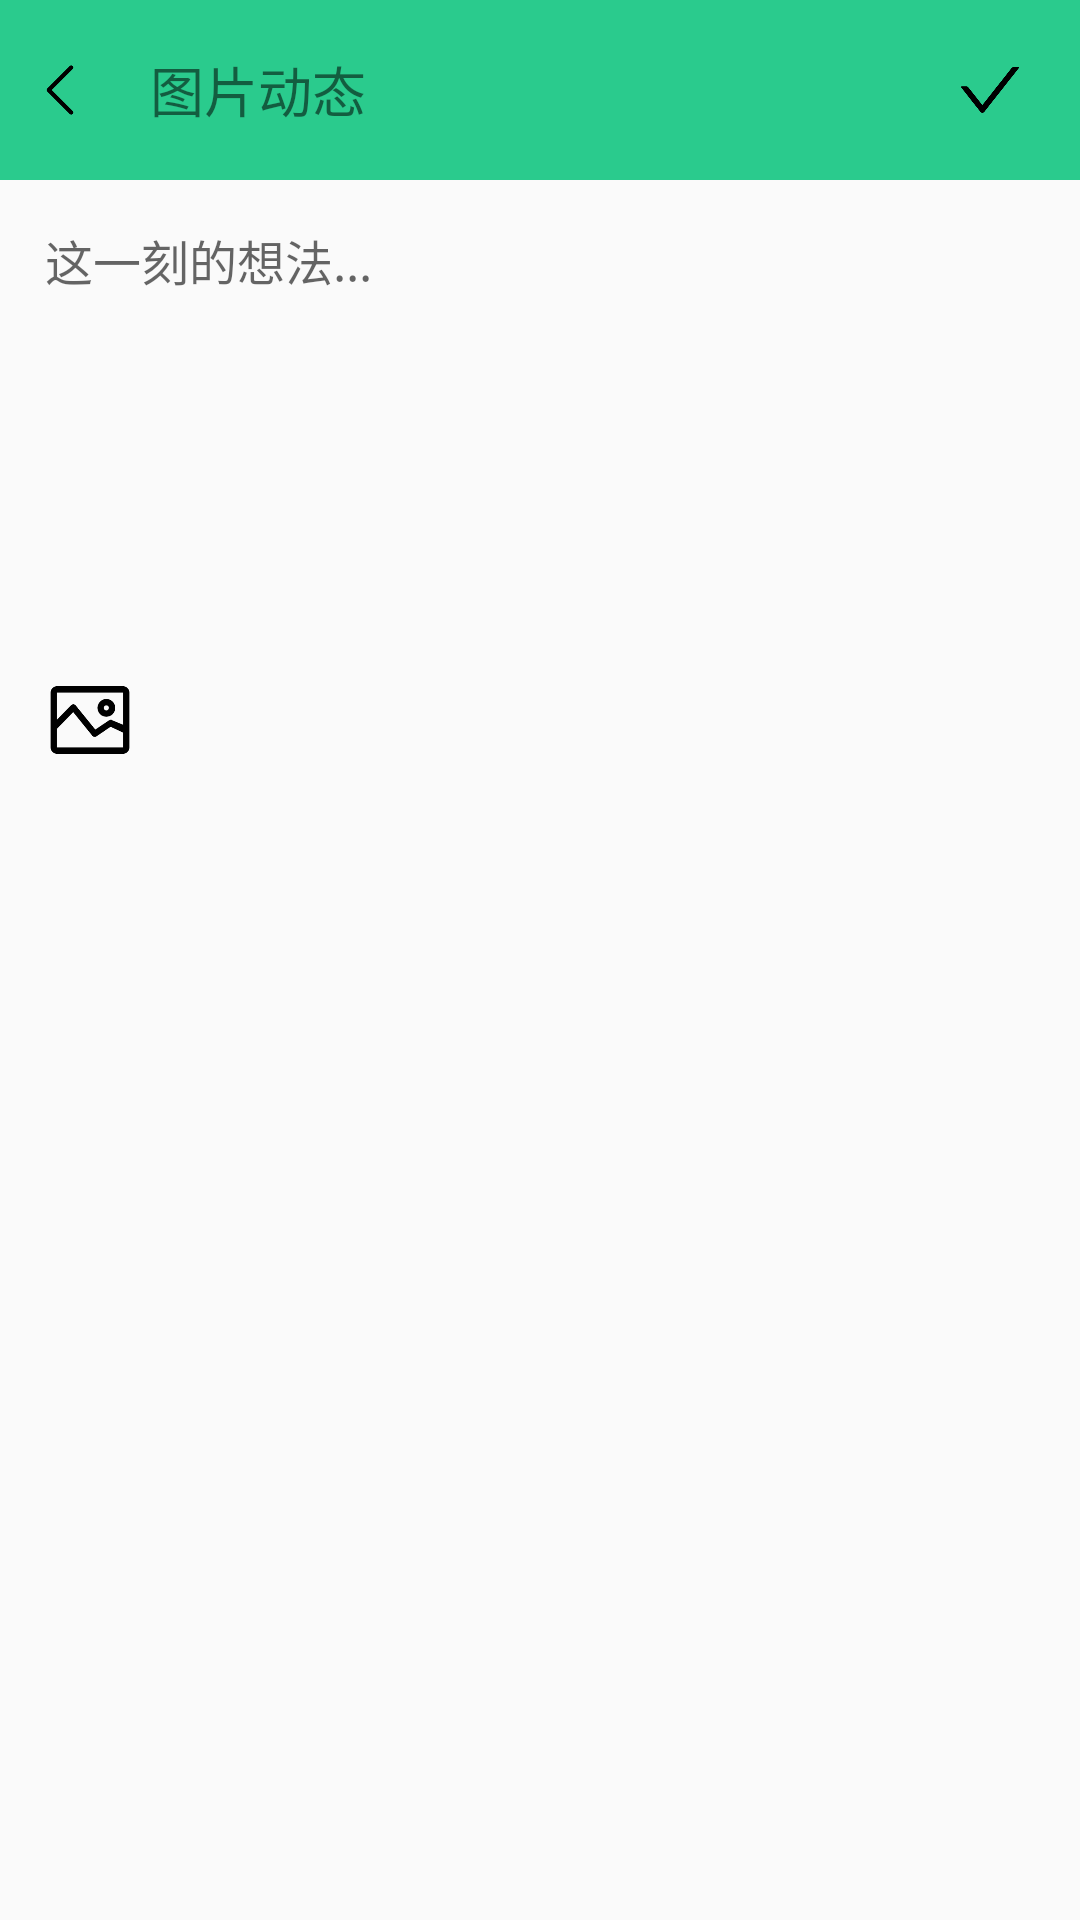

Screen size 1080 x 1920. Icon name, then its center in pixels as [x,y]:
arrow left: [60,90]
correct: [990,90]
